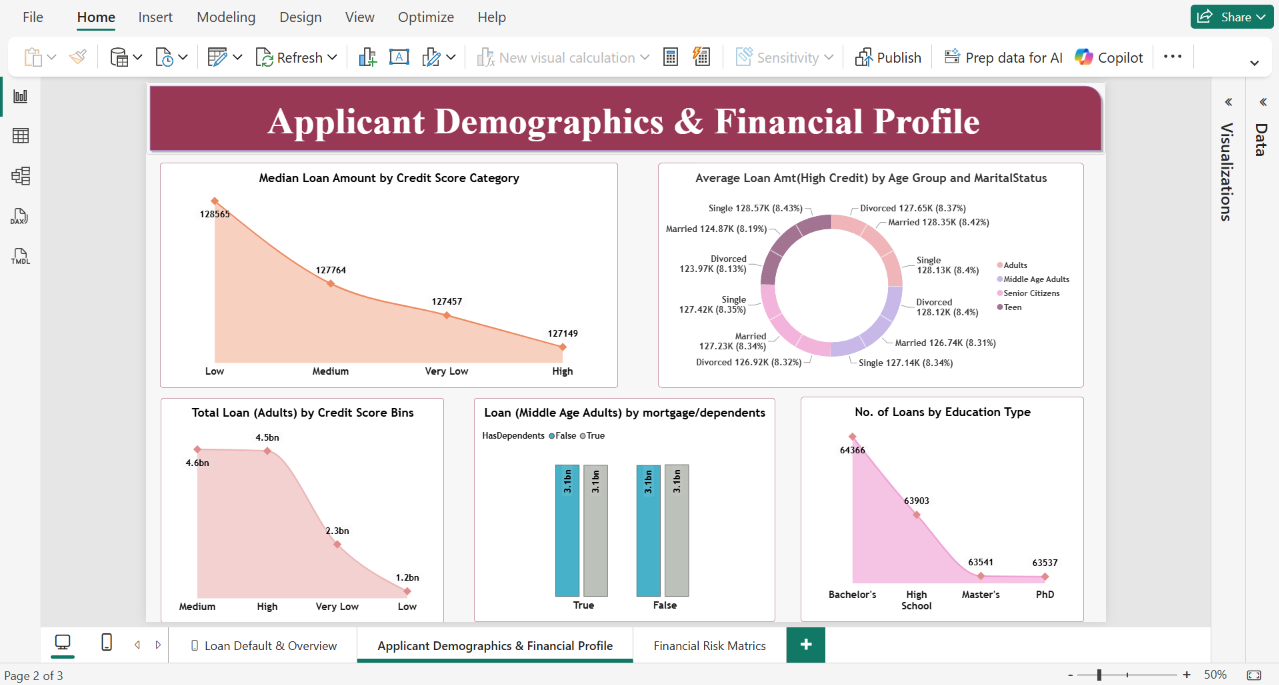

What the dashboard file says about the page in this screenshot:
{"tool":"powerbi","page":{"name":"Applicant Demographics & Financial Profile","canvas":[1920,1080],"ordinal":1},"visuals":[{"type":"shape","box":[0,0,1919.3,145.4],"z":0},{"type":"lineChart","title":"Median Loan Amount by Credit Score Category","fields":{"Category":["Loan_default.Credt Score Bins"],"Y":["Measures Table 2.Median by Credit Score bins"]},"box":[28.6,162.9,915.7,449],"z":1000},{"type":"donutChart","fields":{"Category":["Loan_default.Age Group"],"Series":["Loan_default.MaritalStatus"],"Y":["Measures Table 2.Average Loan Amt(High Credit)"]},"box":[1023.5,162.9,851.8,449],"z":2000},{"type":"lineChart","title":"Total Loan (Adults) by Credit Score Bins","fields":{"Category":["Loan_default.Credt Score Bins"],"Y":["Measures Table 2.Total Loan (Credit Bins)"]},"box":[29.5,631.8,565.9,450],"z":3000},{"type":"clusteredColumnChart","title":"Loan (Middle Age Adults) by mortgage/dependents","fields":{"Category":["Loan_default.HasMortgage"],"Series":["Loan_default.HasDependents"],"Y":["Measures Table 2.Total Loan (Middle Age Adults)"]},"box":[656.8,631.8,602.3,447.7],"z":3001},{"type":"lineChart","title":"No. of Loans by Education Type","fields":{"Category":["Loan_default.Education"],"Y":["Measures Table 2.Loans by Education Type"]},"box":[1309.1,629.5,565.9,450],"z":3002}]}

Visuals, with their boxes on the page's 1920x1080 design canvas (x1, y1, x2, y2). These are canvas units, not pixel positions in the 1279x685 screenshot, which may show the page scaled, cropped or inside an application window:
shape: [0, 0, 1919, 145]
"Median Loan Amount by Credit Score Category" lineChart: [29, 163, 944, 612]
donutChart - Loan_default.Age Group x Loan_default.MaritalStatus: [1024, 163, 1875, 612]
"Total Loan (Adults) by Credit Score Bins" lineChart: [30, 632, 595, 1082]
"Loan (Middle Age Adults) by mortgage/dependents" clusteredColumnChart: [657, 632, 1259, 1080]
"No. of Loans by Education Type" lineChart: [1309, 630, 1875, 1080]
